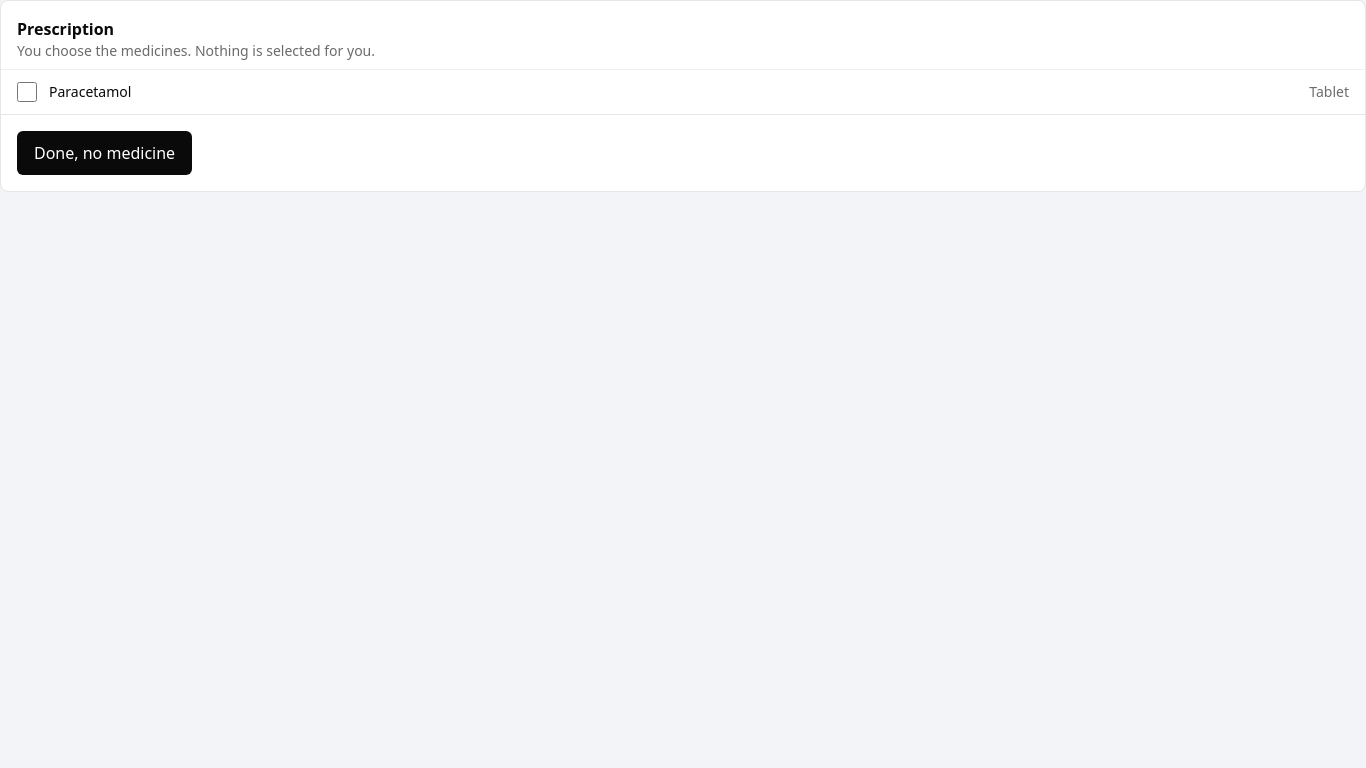
Test: the picker › shows the conflicts from a 409, then asks for the tick on that medicine
This screenshot has width=1366, height=768.
Click the checkbox with test id "drug-DR-PARA": [27, 92] box [17,82,37,102]
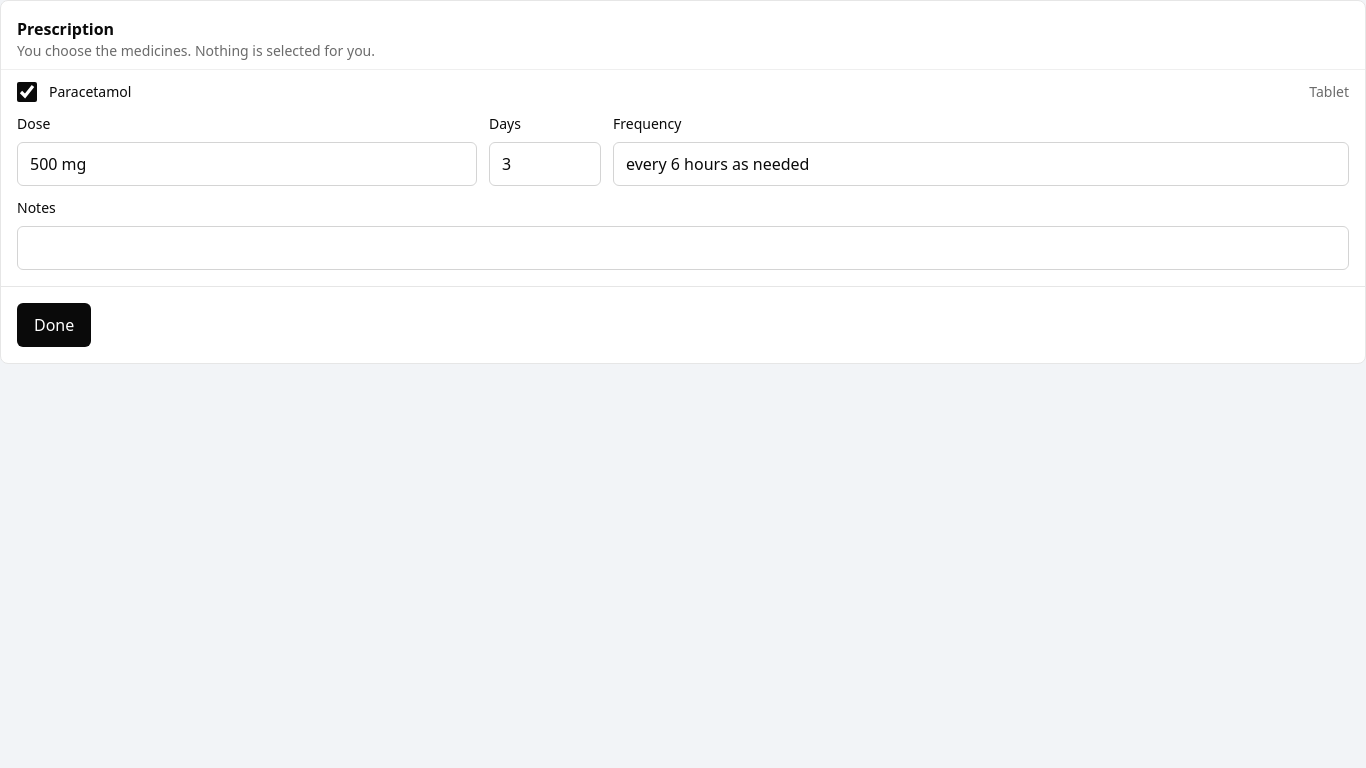
Click the button with test id "consult-done": [54, 325] box [17,303,91,347]
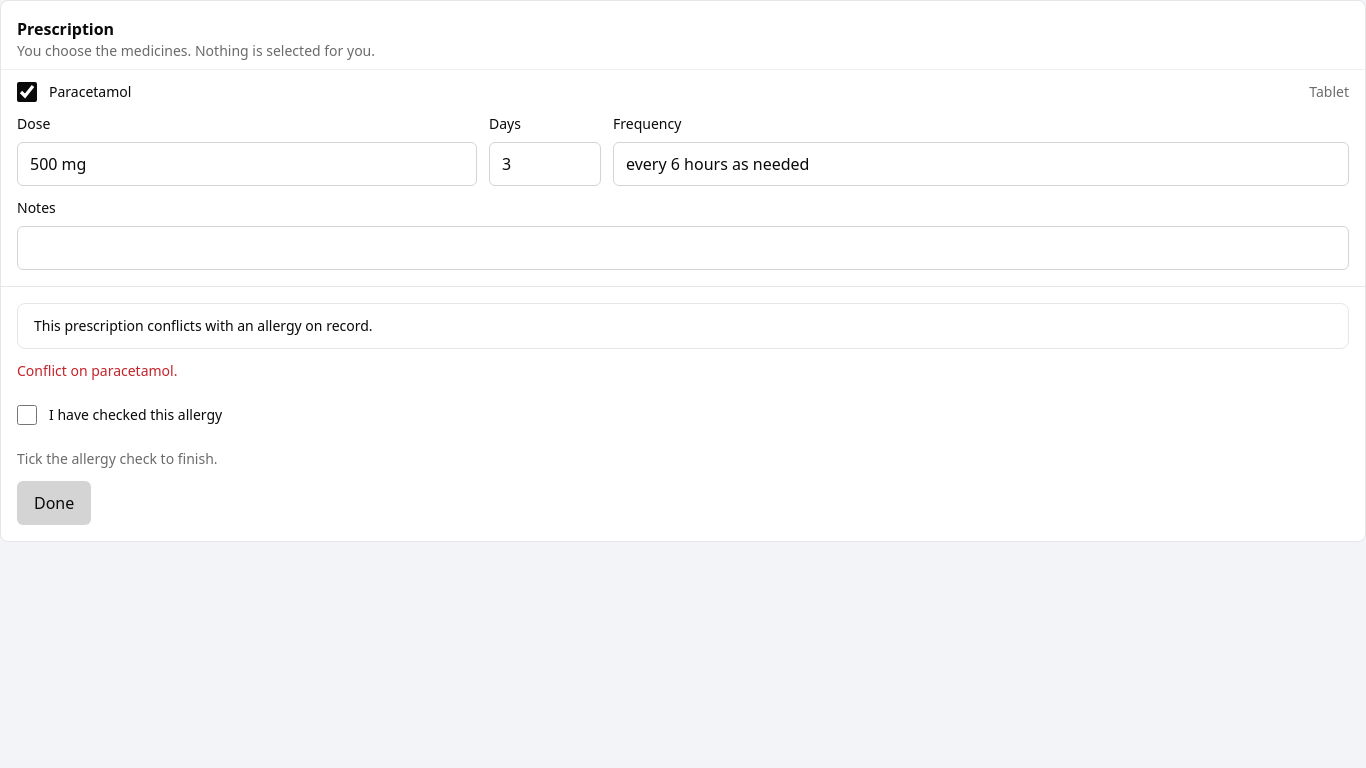
Expected: the list with test id "allergy-conflicts" reads "Conflict on paracetamol.", [17,361,178,380]
Expected: the button with test id "consult-done" is disabled, [17,481,91,525]
Expected: the checkbox with test id "ack-allergy" is not checked, [17,405,37,425]
